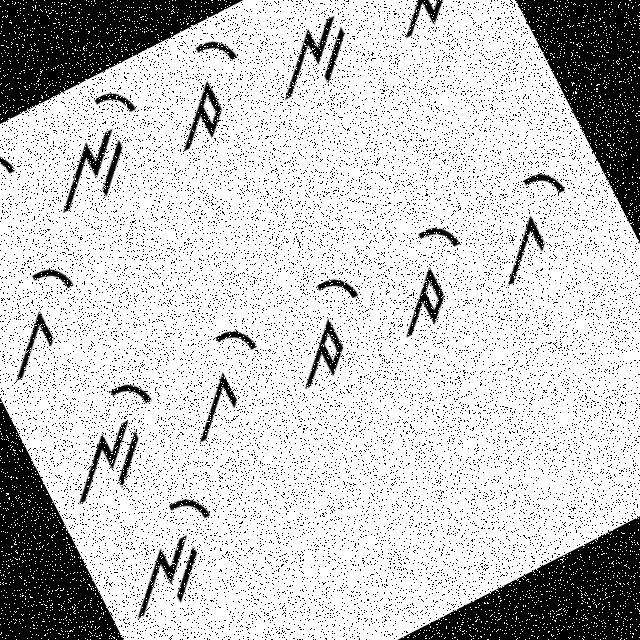gay: (156, 312, 292, 449), (465, 158, 600, 292), (0, 246, 111, 391), (0, 134, 54, 277)
ngay: (34, 368, 185, 517), (18, 77, 172, 223), (95, 484, 248, 628), (238, 0, 393, 111)
tay: (133, 20, 271, 160), (364, 211, 496, 344), (264, 264, 392, 396), (358, 0, 492, 43)
